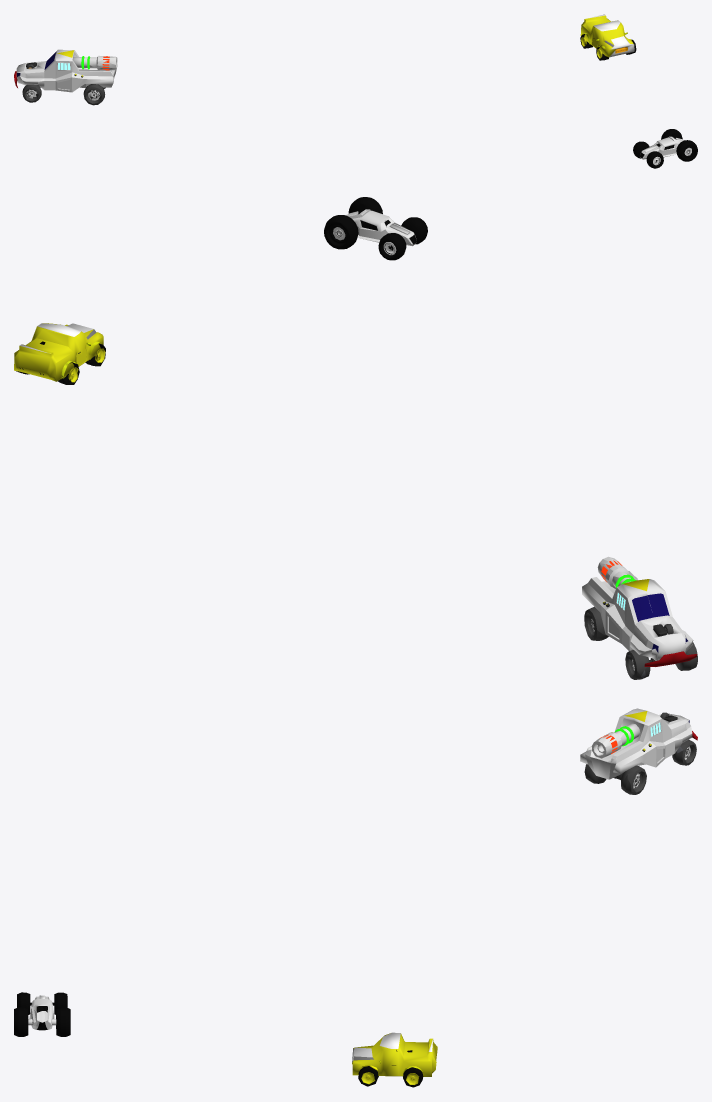
Rendered from cars2.fbx.
The picture shows the model from 3 angles, top to bottom: view 1: azimuth 30°, elevation 25°; view 2: azimuth 150°, elevation 25°; view 3: azimuth 270°, elevation 25°; orthographic projection. The views are drawn at different scales.
Visible parts, largest first — view 1: car6, car1, car4; view 2: car6, car1, car4; view 3: car6, car1, car4.
Part boxes in pixels (x1,y1,x2,y2): car6: (14,49,117,105); car1: (580,14,636,60); car4: (633,129,697,168); car6: (582,556,697,679); car1: (14,323,105,384); car4: (324,197,427,260); car6: (580,708,697,794); car1: (352,1032,437,1087); car4: (14,992,70,1036).
Size of the model in its own units: 1861 by 149 by 1563.
